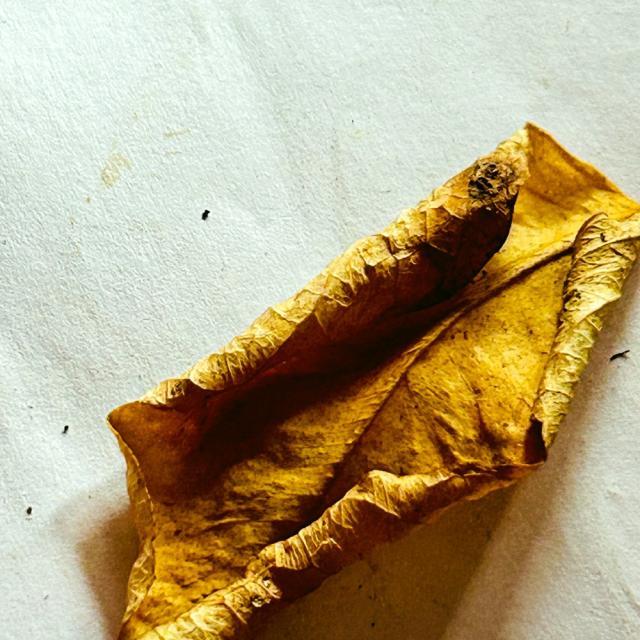DryLeaf_Lemon: (108, 124, 639, 639)
